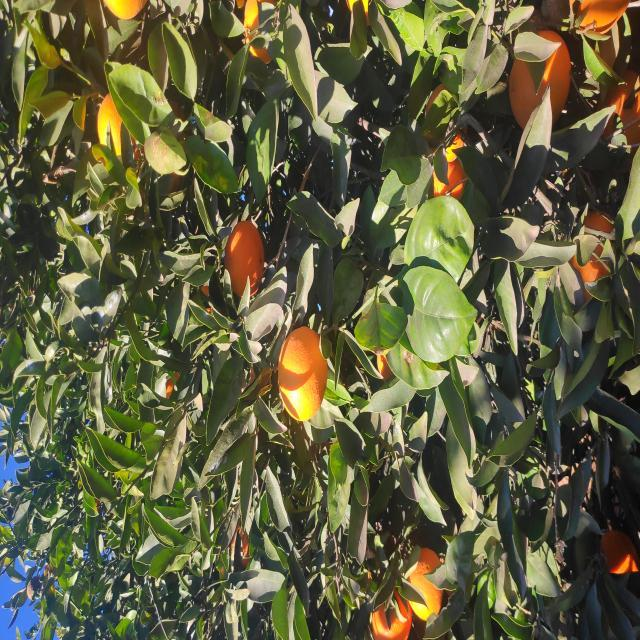Jeruk Sudah Matang: (515, 508, 608, 570), (219, 279, 316, 328), (338, 226, 424, 266), (358, 570, 428, 614), (16, 404, 93, 442), (479, 96, 549, 134), (0, 368, 60, 412), (494, 606, 569, 640), (574, 244, 640, 277), (606, 570, 640, 632), (67, 597, 110, 640), (438, 433, 483, 467), (620, 101, 640, 148), (478, 443, 511, 468), (264, 378, 286, 391)
